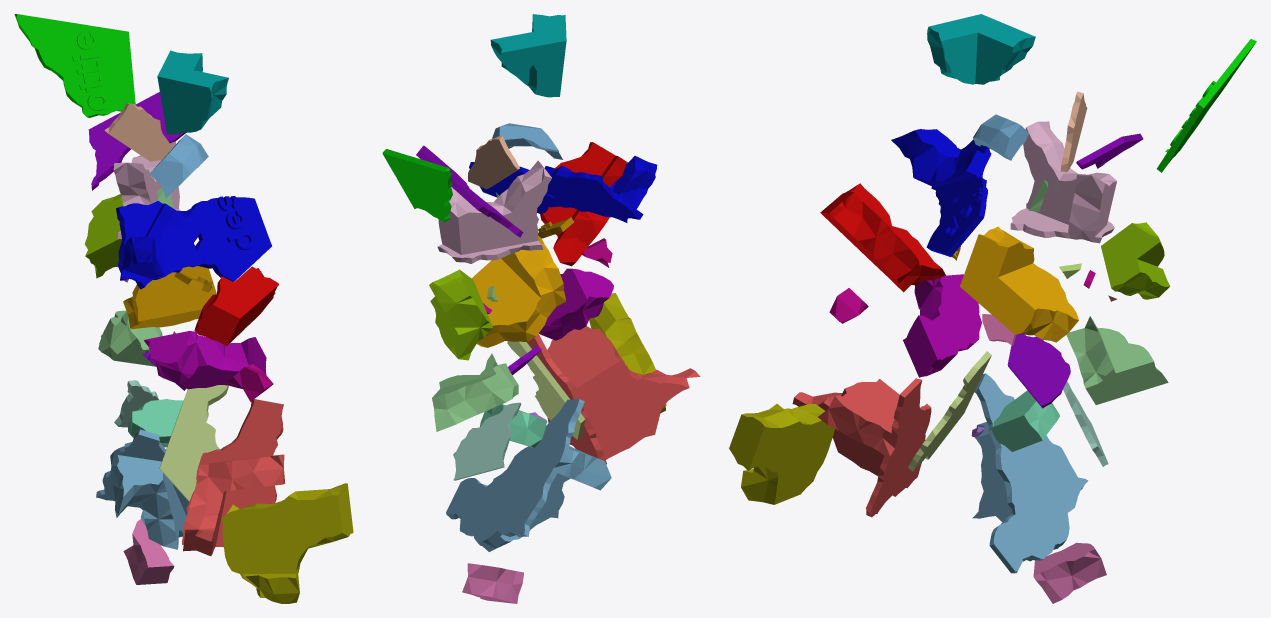
Rendered from fractured_19_29pcs_transformed.glb.
3 views of the same model, side by side, from view 1: azimuth 30°, elevation 25°; view 2: azimuth 150°, elevation 25°; view 3: azimuth 270°, elevation 25° (orthographic). The views are drawn at different scales.
Parts seen in each view (by area): view 1: piece_10.obj, piece_11.obj, piece_1.obj, piece_8.obj, piece_2.obj, piece_12.obj, piece_13.obj, piece_5.obj, piece_9.obj, piece_0.obj, piece_7.obj, piece_14.obj (+8 smaller); view 2: piece_1.obj, piece_2.obj, piece_0.obj, piece_6.obj, piece_10.obj, piece_13.obj, piece_14.obj, piece_9.obj, piece_3.obj, piece_12.obj, piece_8.obj, piece_4.obj (+8 smaller); view 3: piece_2.obj, piece_1.obj, piece_0.obj, piece_11.obj, piece_6.obj, piece_10.obj, piece_9.obj, piece_13.obj, piece_12.obj, piece_3.obj, piece_14.obj, piece_16.obj (+9 smaller).
Part boxes in pixels (left/top/right/bottom): piece_10.obj: left=116, top=196, right=271, bottom=289; piece_11.obj: left=222, top=483, right=353, bottom=603; piece_1.obj: left=182, top=399, right=285, bottom=556; piece_8.obj: left=14, top=14, right=135, bottom=117; piece_2.obj: left=96, top=429, right=189, bottom=549; piece_12.obj: left=144, top=331, right=266, bottom=389; piece_13.obj: left=157, top=50, right=228, bottom=134; piece_5.obj: left=159, top=385, right=228, bottom=501; piece_9.obj: left=194, top=266, right=278, bottom=345; piece_0.obj: left=123, top=266, right=216, bottom=329; piece_7.obj: left=104, top=103, right=172, bottom=161; piece_14.obj: left=85, top=194, right=123, bottom=278; piece_1.obj: left=527, top=326, right=700, bottom=464; piece_2.obj: left=446, top=399, right=611, bottom=551; piece_0.obj: left=471, top=235, right=566, bottom=347; piece_6.obj: left=437, top=160, right=551, bottom=263; piece_10.obj: left=469, top=156, right=657, bottom=222; piece_13.obj: left=490, top=14, right=566, bottom=97; piece_14.obj: left=429, top=269, right=493, bottom=360; piece_9.obj: left=540, top=142, right=627, bottom=266; piece_3.obj: left=432, top=353, right=518, bottom=431; piece_12.obj: left=539, top=268, right=613, bottom=340; piece_8.obj: left=382, top=149, right=452, bottom=222; piece_4.obj: left=453, top=402, right=521, bottom=480; piece_2.obj: left=972, top=373, right=1088, bottom=573; piece_1.obj: left=792, top=378, right=931, bottom=517; piece_0.obj: left=960, top=226, right=1078, bottom=342; piece_11.obj: left=729, top=404, right=834, bottom=504; piece_6.obj: left=1010, top=121, right=1116, bottom=243; piece_10.obj: left=891, top=129, right=991, bottom=256; piece_9.obj: left=820, top=183, right=945, bottom=292; piece_13.obj: left=927, top=14, right=1035, bottom=84; piece_12.obj: left=903, top=274, right=981, bottom=377; piece_3.obj: left=1066, top=316, right=1168, bottom=404; piece_14.obj: left=1101, top=222, right=1170, bottom=299; piece_16.obj: left=1007, top=333, right=1070, bottom=408.
Size of the model in its own units: 0.5979 by 1.94 by 1.63.
